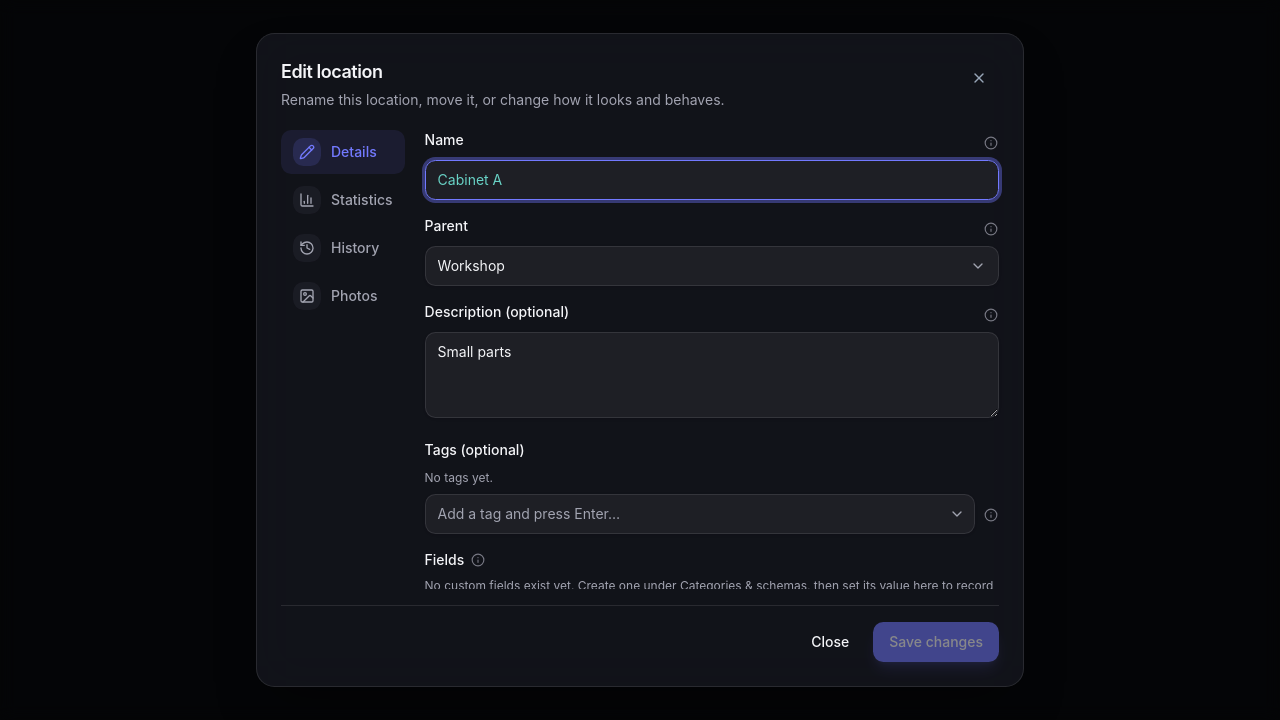
EditLocationDialog — saving › falls back to a generic message when the failure is not an Error
The image size is (1280, 720).
Replace the text in the field labelled "Name" with "Cabinet B" at (712, 180), box [425,160,999,200]
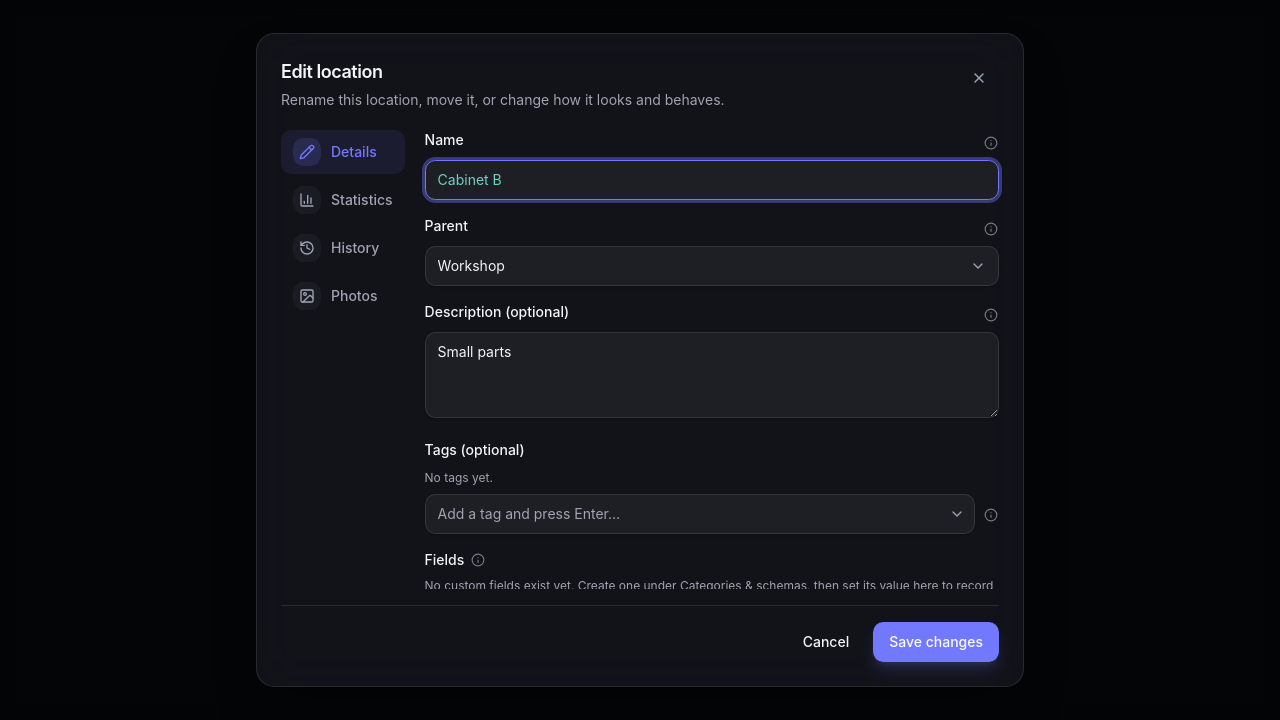
Click the button "Save changes" at (936, 642), box [873,622,999,662]
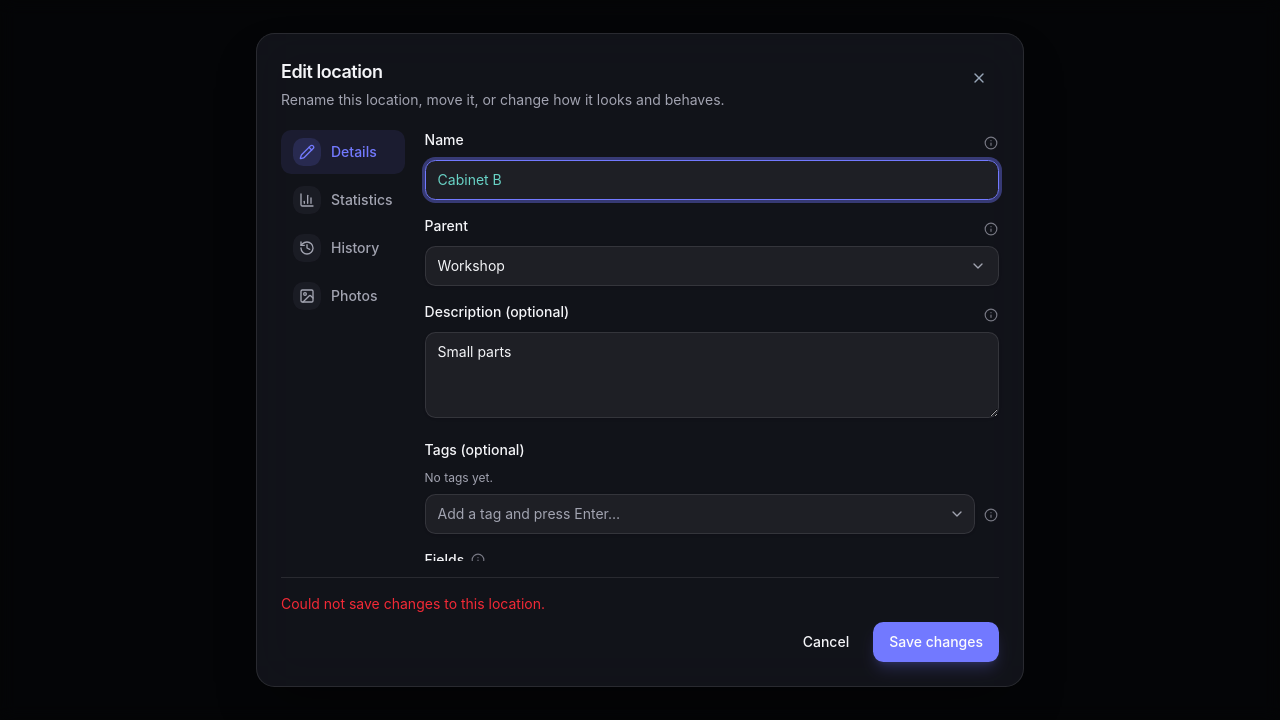
Expected: the message reads "Could not save changes to this location.", [281,595,545,612]
